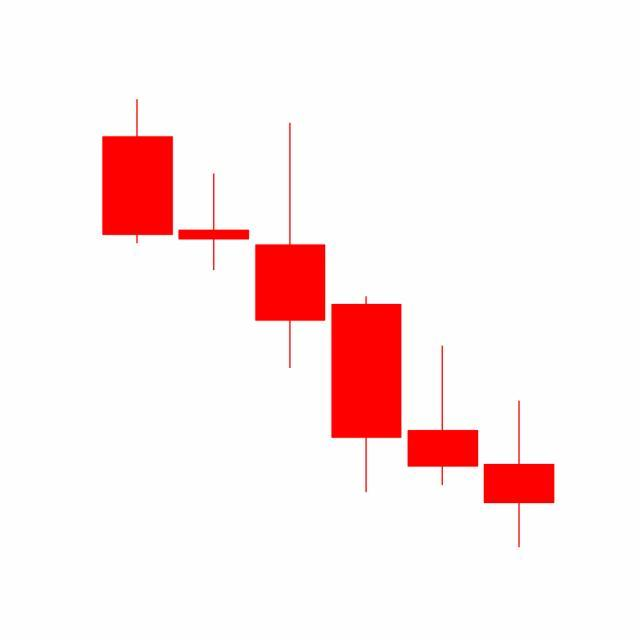Hikkake Pattern: (175, 119, 555, 549)
